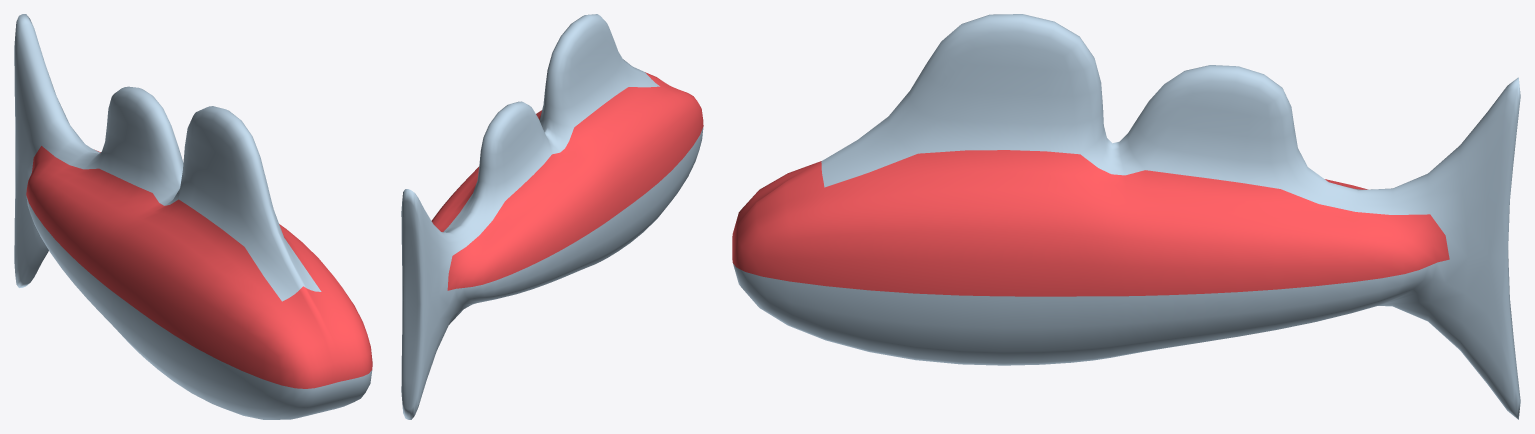
The model's file is MediumFish.fbx.
3 views of the same model, side by side, from view 1: azimuth 30°, elevation 25°; view 2: azimuth 150°, elevation 25°; view 3: azimuth 270°, elevation 25° (orthographic). The views are drawn at different scales.
Parts seen in each view (by area): view 1: Cube; view 2: Cube; view 3: Cube.
Part boxes in pixels (box(x1,y1,x2,y2)): Cube: box(14, 14, 372, 419); Cube: box(401, 14, 703, 419); Cube: box(732, 14, 1520, 419).
Bounding box in the file's own units: 36.94 × 77.12 × 137.
